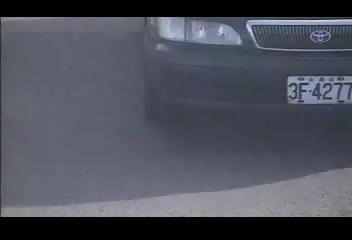plate: (285, 73, 351, 105)
